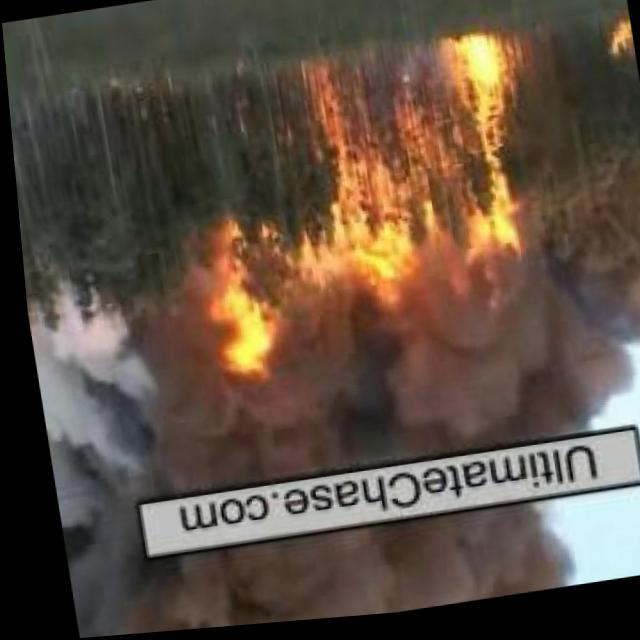Fire: (295, 27, 544, 302), (188, 228, 269, 397), (595, 26, 634, 73)
